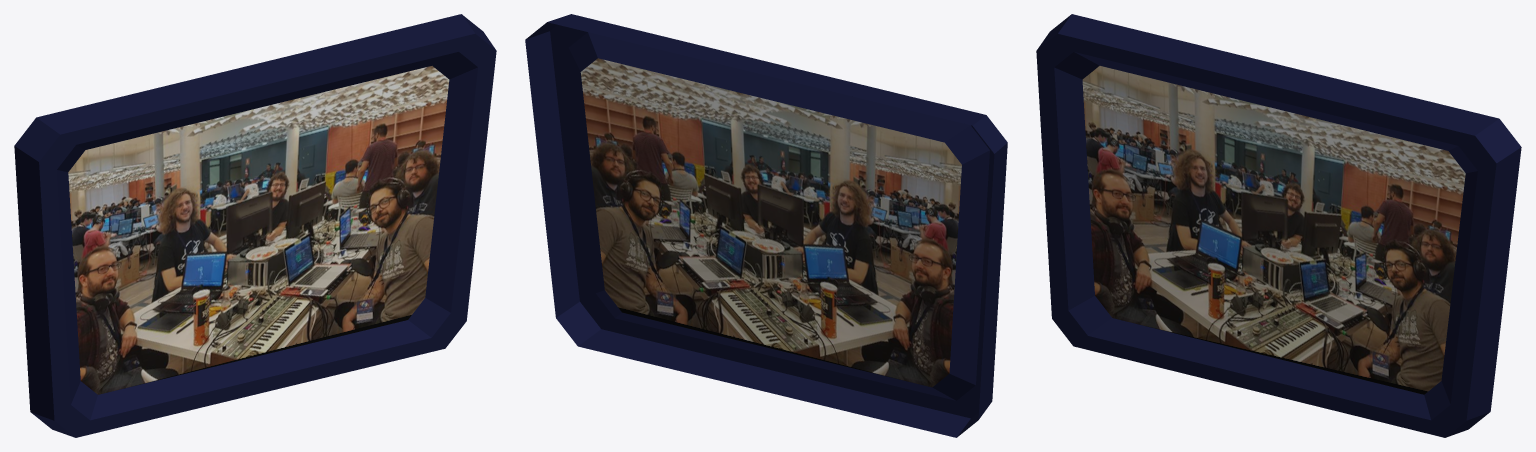
Rendered from MDL_Cuadro.FBX.
3 views of the same model, side by side, from view 1: azimuth 30°, elevation 25°; view 2: azimuth 150°, elevation 25°; view 3: azimuth 330°, elevation 25° (orthographic).
Visible parts, largest first — view 1: Object004; view 2: Object004; view 3: Object004.
Boxes of the visible parts, box(x1,y1,x2,y2) form: Object004: box(14, 14, 496, 437); Object004: box(525, 14, 1007, 437); Object004: box(1036, 14, 1521, 437).
Bounding box in the file's own units: 47.41 × 30.61 × 3.33.
